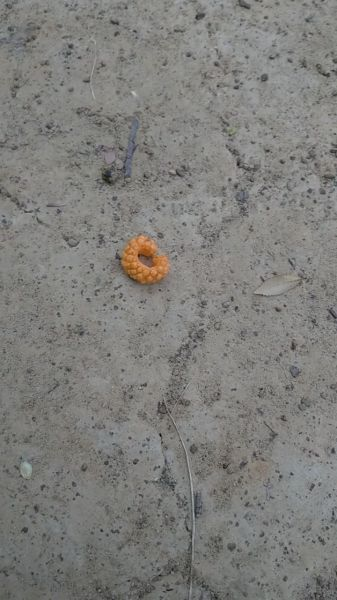eggs: (122, 233, 172, 288)
